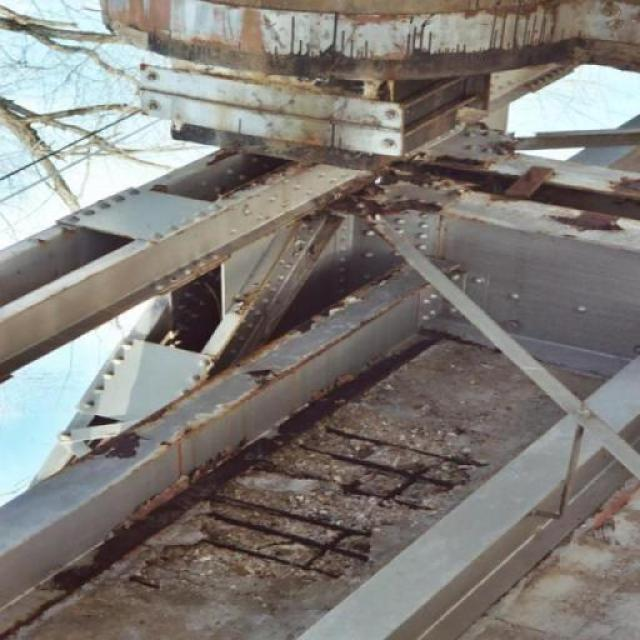D0w0: (116, 401, 488, 589)
